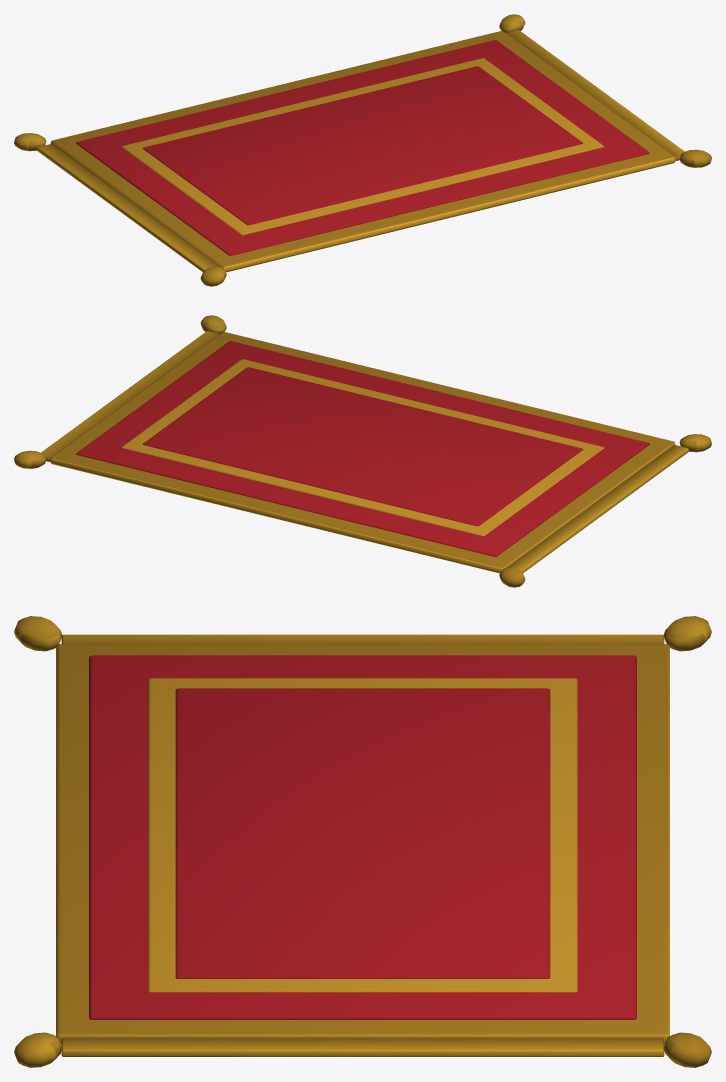
The model's file is h_prop_rug.glb.
The picture shows the model from 3 angles, top to bottom: view 1: azimuth 30°, elevation 25°; view 2: azimuth 150°, elevation 25°; view 3: azimuth 270°, elevation 25°; orthographic projection. The views are drawn at different scales.
Parts seen in each view (by area): view 1: RugCenterField, RugVelvetBorder, RugGoldOuter, RugGoldInner, RugFringe_-0.88, RugFringe_0.88, RugTassel_0.88_-0.58, RugTassel_-0.88_0.58; view 2: RugCenterField, RugVelvetBorder, RugGoldOuter, RugGoldInner, RugFringe_-0.88, RugFringe_0.88, RugTassel_0.88_0.58, RugTassel_-0.88_-0.58; view 3: RugCenterField, RugVelvetBorder, RugGoldOuter, RugGoldInner, RugFringe_0.88, RugFringe_-0.88, RugTassel_0.88_0.58, RugTassel_0.88_-0.58, RugTassel_-0.88_0.58, RugTassel_-0.88_-0.58.
Boxes of the visible parts, x1,y1,x2,y2 form: RugCenterField: [142, 66, 583, 225]; RugVelvetBorder: [76, 40, 649, 255]; RugGoldOuter: [50, 31, 675, 272]; RugGoldInner: [121, 58, 604, 235]; RugFringe_-0.88: [37, 144, 219, 271]; RugFringe_0.88: [506, 30, 684, 161]; RugTassel_0.88_-0.58: [679, 149, 711, 167]; RugTassel_-0.88_0.58: [14, 133, 46, 151]; RugCenterField: [142, 367, 583, 526]; RugVelvetBorder: [76, 341, 649, 556]; RugGoldOuter: [50, 332, 675, 573]; RugGoldInner: [121, 359, 604, 536]; RugFringe_-0.88: [506, 445, 688, 572]; RugFringe_0.88: [41, 331, 219, 462]; RugTassel_0.88_0.58: [14, 450, 46, 468]; RugTassel_-0.88_-0.58: [679, 434, 711, 452]; RugCenterField: [175, 688, 550, 978]; RugVelvetBorder: [89, 655, 636, 1019]; RugGoldOuter: [56, 644, 669, 1044]; RugGoldInner: [148, 678, 577, 992]; RugFringe_0.88: [61, 1037, 664, 1056]; RugFringe_-0.88: [61, 634, 664, 643]; RugTassel_0.88_0.58: [663, 1032, 711, 1067]; RugTassel_0.88_-0.58: [14, 1032, 62, 1067]; RugTassel_-0.88_0.58: [663, 616, 711, 651]; RugTassel_-0.88_-0.58: [14, 616, 62, 651].
Bounding box in the file's own units: 1.93 × 0.056 × 1.3.
2 materials, 2 textured.
